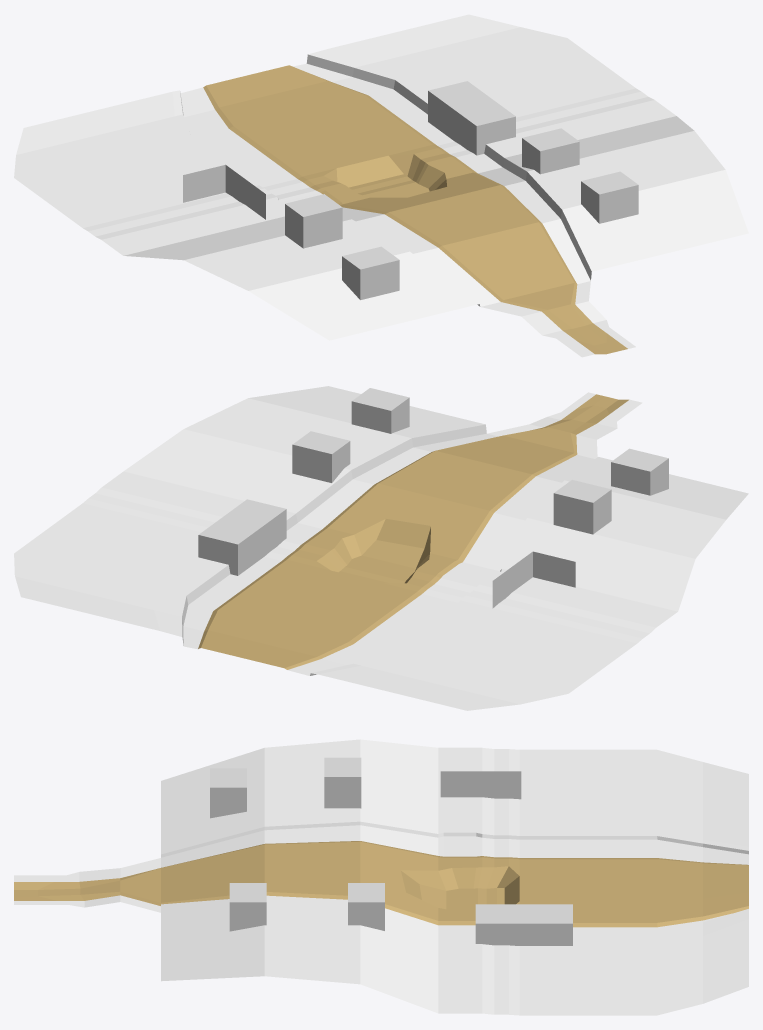
3 views of the same model, one above another, from view 1: azimuth 30°, elevation 25°; view 2: azimuth 150°, elevation 25°; view 3: azimuth 270°, elevation 25° (orthographic).
Parts seen in each view (by area): view 1: Plane.003, Plane, Plane.002, Plane.001, Cube.005, Cube.001, Cube.002, Cube.003, Cube, Cube.004; view 2: Plane.003, Plane, Plane.002, Plane.001, Cube.005, Cube.001, Cube.004, Cube, Cube.002, Cube.003; view 3: Plane, Plane.003, Plane.002, Plane.001, Cube.005, Cube, Cube.001, Cube.002, Cube.003, Cube.004.
Boxes of the visible parts, box(x1,y1,x2,y2) form: Plane.003: box(306, 14, 748, 280); Plane: box(14, 90, 480, 340); Plane.002: box(203, 65, 627, 354); Plane.001: box(180, 63, 635, 357); Cube.005: box(428, 81, 515, 155); Cube.001: box(285, 194, 342, 248); Cube.002: box(342, 246, 399, 300); Cube.003: box(581, 171, 638, 223); Cube: box(183, 164, 265, 219); Cube.004: box(522, 128, 579, 174); Plane.003: box(14, 386, 486, 645); Plane: box(310, 457, 748, 710); Plane.002: box(198, 394, 628, 669); Plane.001: box(183, 392, 642, 675); Cube.005: box(198, 499, 286, 575); Cube.001: box(553, 480, 611, 534); Cube.004: box(292, 431, 350, 482); Cube: box(492, 551, 575, 608); Cube.002: box(611, 448, 668, 495); Cube.003: box(351, 388, 409, 433); Plane: box(161, 739, 748, 857); Plane.003: box(161, 896, 748, 1015); Plane.002: box(14, 841, 748, 927); Plane.001: box(14, 825, 748, 931); Cube.005: box(475, 904, 572, 945); Cube: box(440, 771, 521, 799); Cube.001: box(324, 757, 361, 808); Cube.002: box(210, 768, 246, 818); Cube.003: box(229, 883, 266, 931); Cube.004: box(348, 883, 384, 930).
Size of the model in its own units: 162 by 19.45 by 186.
